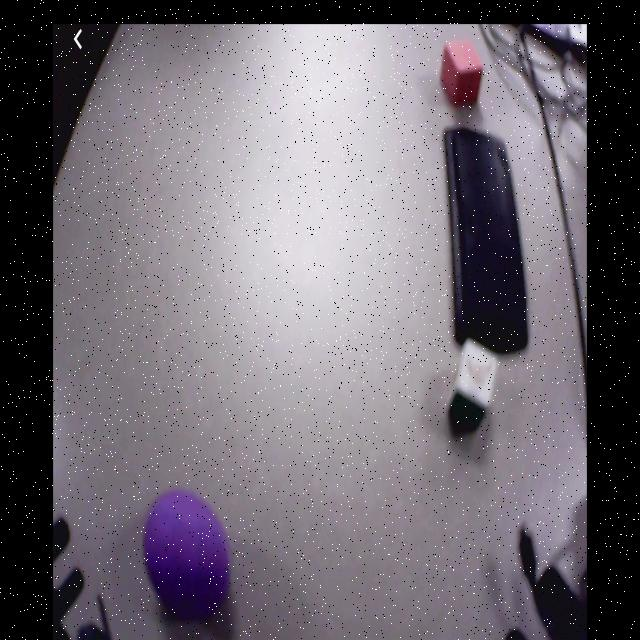ball: (145, 493, 233, 620)
